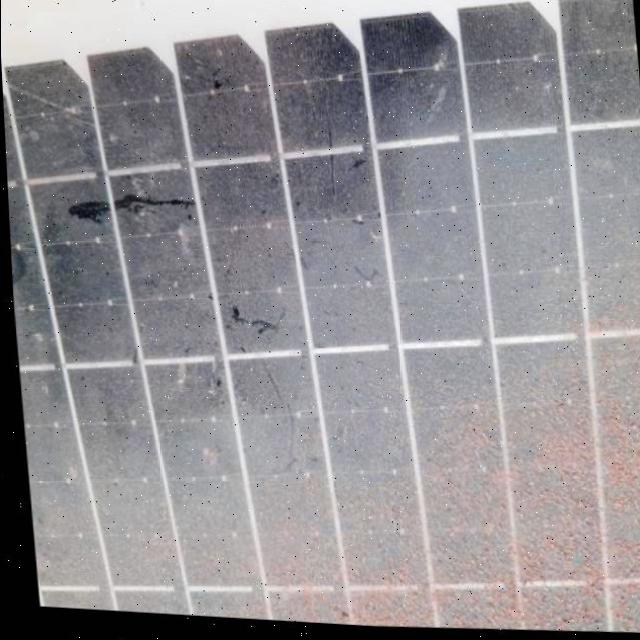Surface Contaminant: (0, 20, 601, 598)
